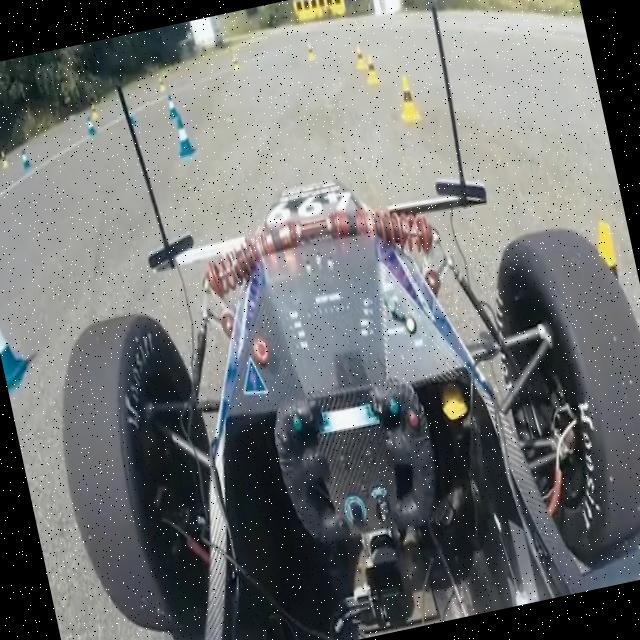blue_cone: (0, 296, 32, 391), (170, 114, 198, 160), (164, 91, 180, 120)
yellow_cone: (393, 73, 422, 124), (361, 54, 382, 86), (352, 44, 368, 70)
